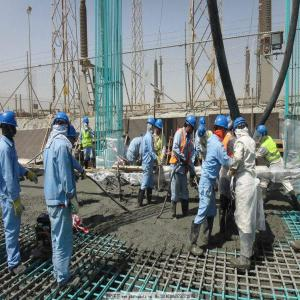blue: (1, 111, 19, 140), (53, 111, 71, 138), (214, 115, 229, 140), (234, 117, 248, 139), (256, 126, 268, 145), (67, 126, 77, 147), (185, 116, 196, 135), (147, 118, 156, 133), (157, 120, 165, 134), (199, 126, 206, 140), (84, 118, 90, 128)
